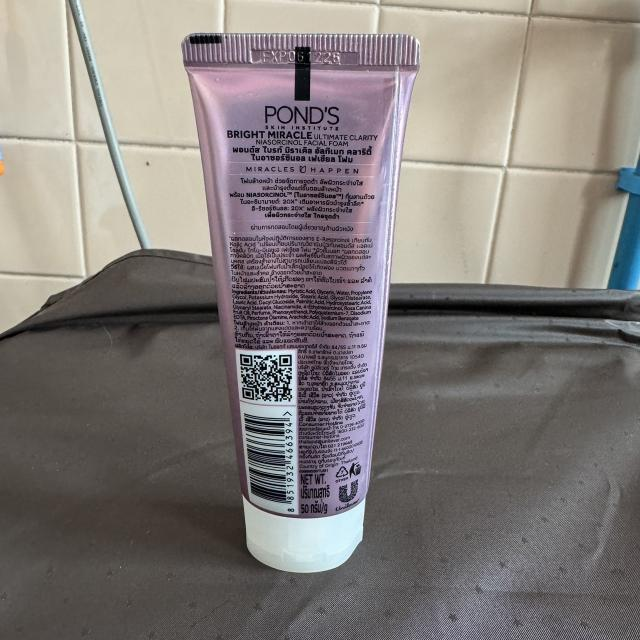Squeeze Tube: (164, 16, 430, 583)
